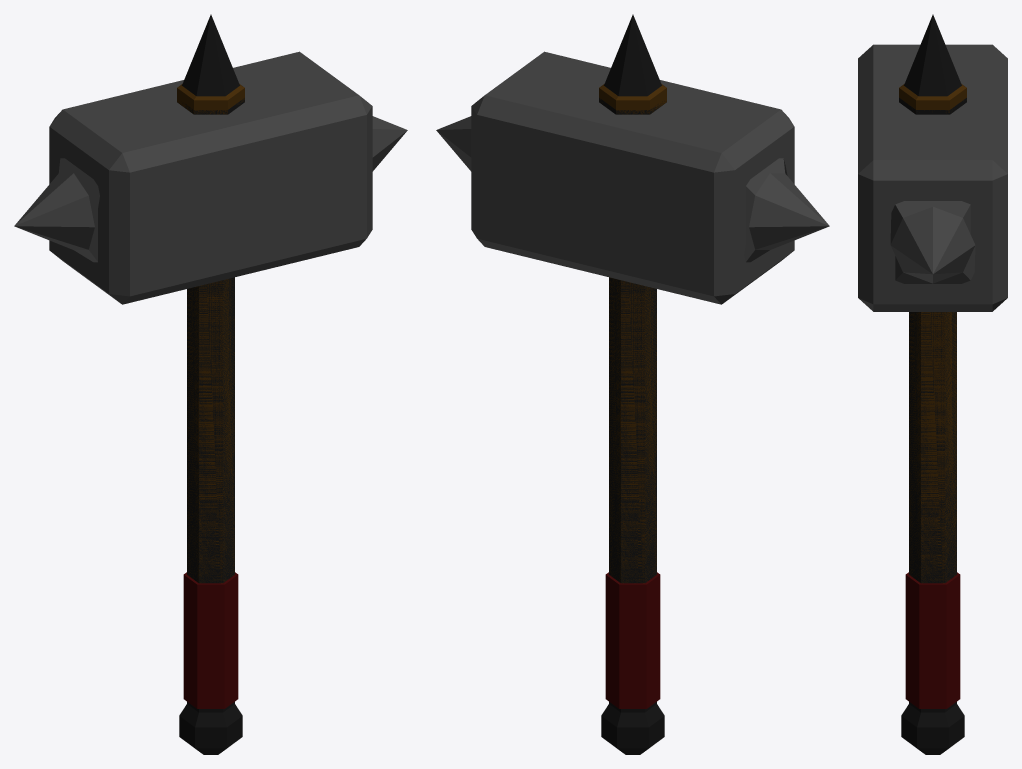
File: Hammer.fbx
3 renders of one model, left to right at view 1: azimuth 30°, elevation 25°; view 2: azimuth 150°, elevation 25°; view 3: azimuth 270°, elevation 25°, orthographic.
Parts seen in each view (by area): view 1: Hammer_1, Hammer_5, Hammer_3, Hammer_4; view 2: Hammer_1, Hammer_5, Hammer_3, Hammer_4; view 3: Hammer_5, Hammer_1, Hammer_3, Hammer_4.
Boxes of the visible parts, left/top/right/bottom form: Hammer_1: left=49, top=51, right=372, bottom=304; Hammer_5: left=14, top=14, right=407, bottom=754; Hammer_3: left=177, top=84, right=244, bottom=583; Hammer_4: left=184, top=572, right=238, bottom=708; Hammer_1: left=471, top=51, right=794, bottom=304; Hammer_5: left=436, top=14, right=829, bottom=754; Hammer_3: left=599, top=84, right=666, bottom=583; Hammer_4: left=605, top=572, right=659, bottom=708; Hammer_5: left=890, top=14, right=975, bottom=754; Hammer_1: left=858, top=44, right=1007, bottom=311; Hammer_3: left=873, top=84, right=992, bottom=583; Hammer_4: left=905, top=575, right=960, bottom=708.
Bounding box in the file's own units: 63.2 × 113 × 20.83.
